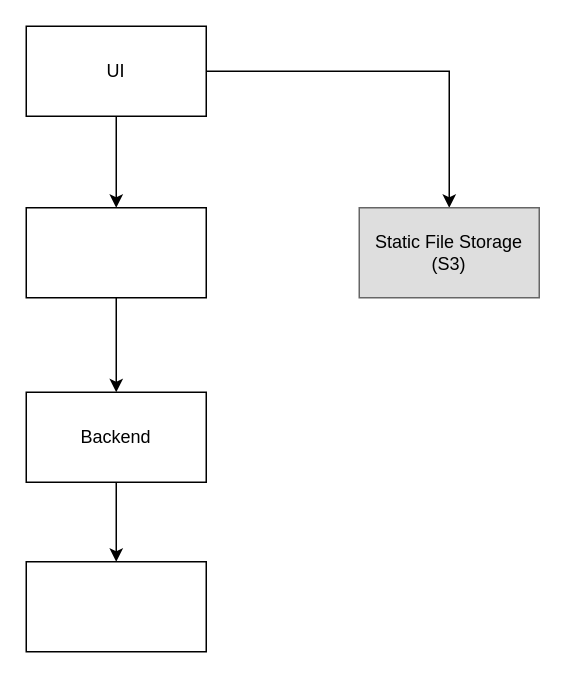
This 566x678 diagram has some shape labels left out. The centre of each missing label's shape, as x and y in pixels:
API Gateway: the point at 115,252
Database: the point at 115,606
